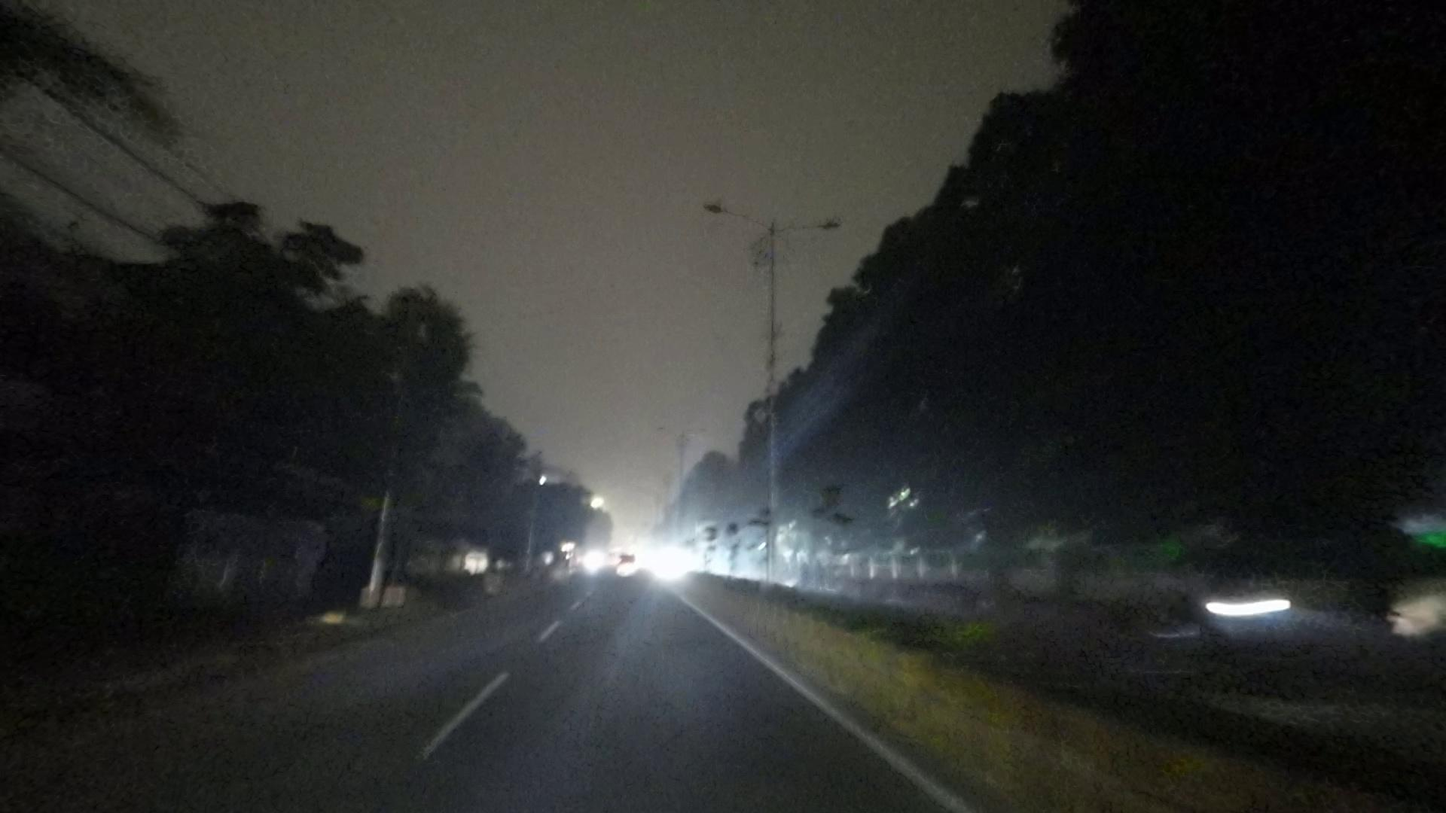streetlight: (701, 199, 769, 229), (773, 215, 846, 236)
